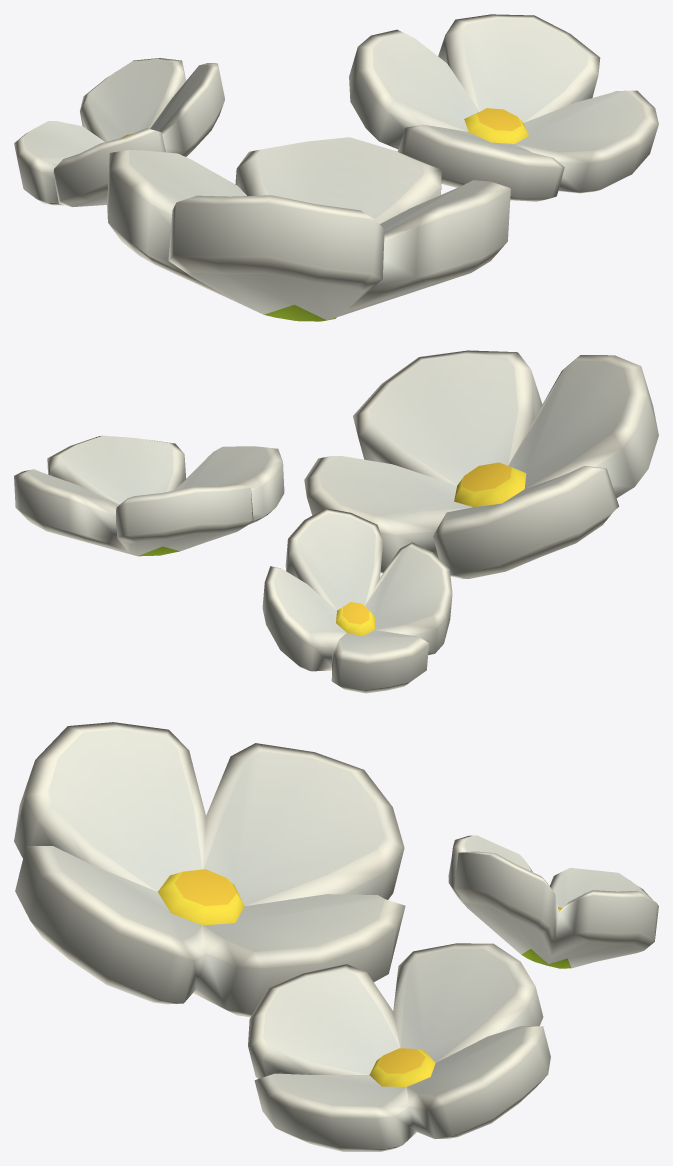
Rendered from flower_trio_white_LOD_group.fbx.
3 views of the same model, one above another, from view 1: azimuth 30°, elevation 25°; view 2: azimuth 150°, elevation 25°; view 3: azimuth 270°, elevation 25° (orthographic). The views are drawn at different scales.
Parts seen in each view (by area): view 1: flower_trio_white_LOD0; view 2: flower_trio_white_LOD0; view 3: flower_trio_white_LOD0.
Boxes of the visible parts, <box> form: flower_trio_white_LOD0: <box>14,14,658,321</box>; flower_trio_white_LOD0: <box>14,350,658,693</box>; flower_trio_white_LOD0: <box>14,722,658,1151</box>.
Size of what is drawn, in the model's own units: 77.5 by 24.22 by 72.15.
1 material, 1 textured.
